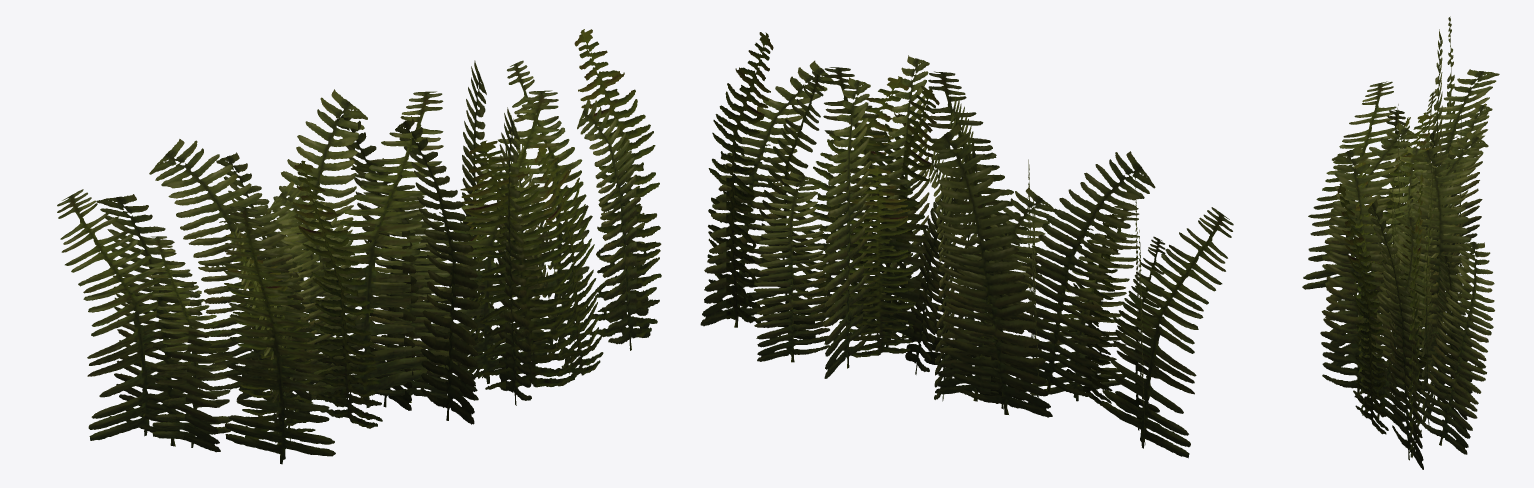
Rendered from wm_灌木小灌木07.fbx.
3 views of the same model, side by side, from view 1: azimuth 30°, elevation 25°; view 2: azimuth 150°, elevation 25°; view 3: azimuth 270°, elevation 25° (orthographic). The views are drawn at different scales.
Visible parts, largest first — view 1: wm_灌木小灌木07; view 2: wm_灌木小灌木07; view 3: wm_灌木小灌木07.
Boxes of the visible parts, x1,y1,x2,y2 form: wm_灌木小灌木07: (57, 29, 661, 464); wm_灌木小灌木07: (700, 32, 1233, 458); wm_灌木小灌木07: (1302, 16, 1499, 469).
Size of the model in its own units: 289 by 156 by 107.
